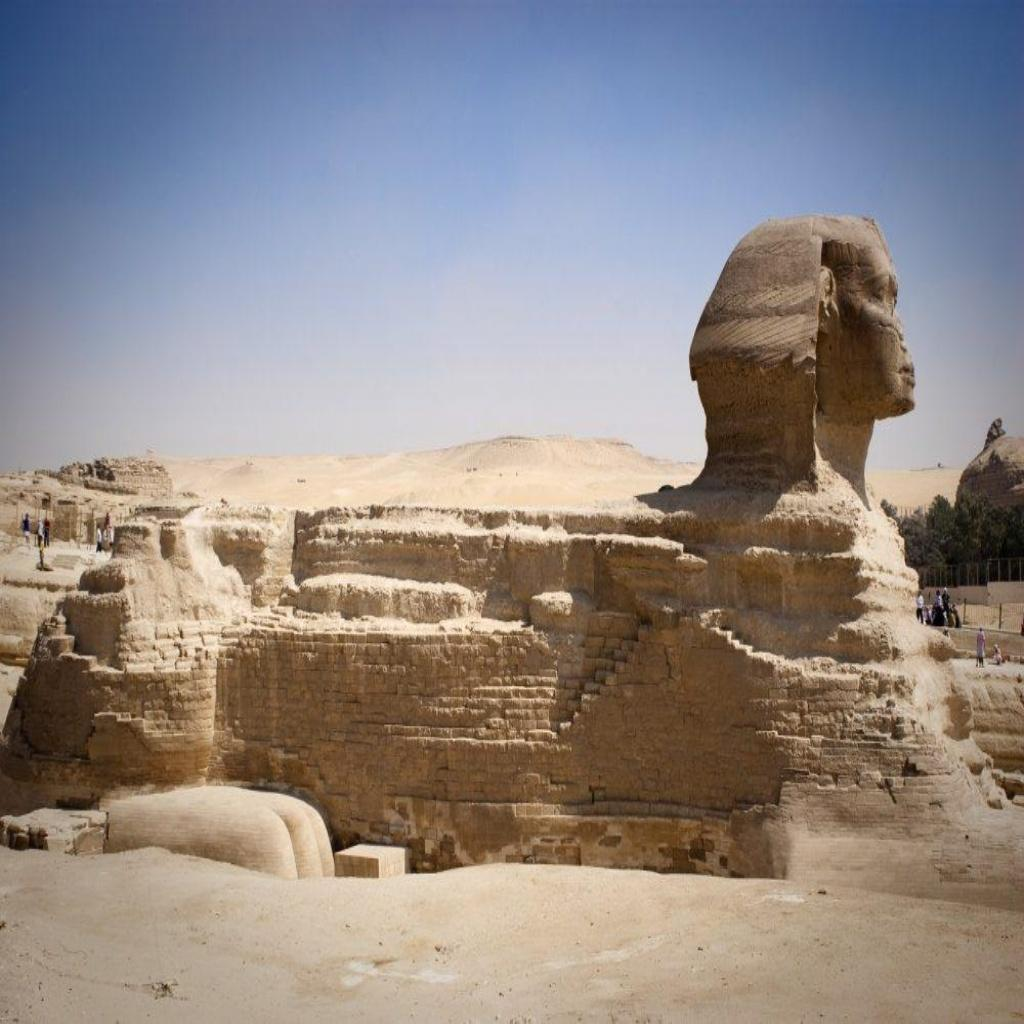Sphinx: (638, 210, 918, 520)
